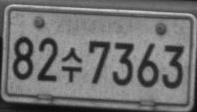2: (36, 36, 58, 81)
3: (161, 44, 184, 88), (112, 42, 134, 85)
6: (136, 43, 160, 87)
7: (88, 40, 111, 83)
8: (11, 35, 34, 80)
수: (60, 47, 83, 82)
